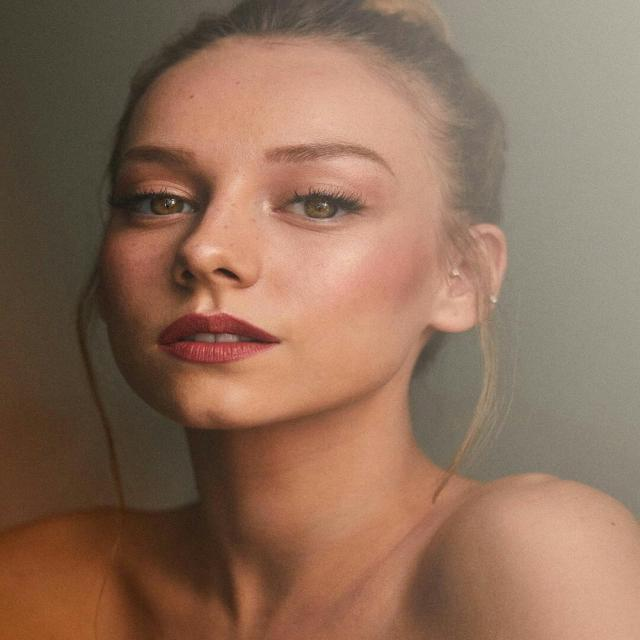earlobe: (433, 292, 476, 335)
eye: (271, 190, 363, 228), (122, 188, 204, 222)
nose: (170, 264, 247, 298)
wholeear: (434, 223, 507, 335)
